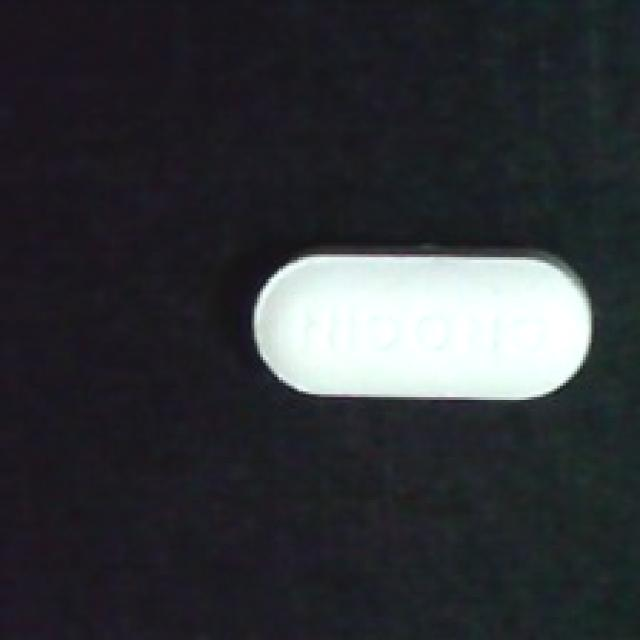no-defect: (246, 240, 597, 414)
